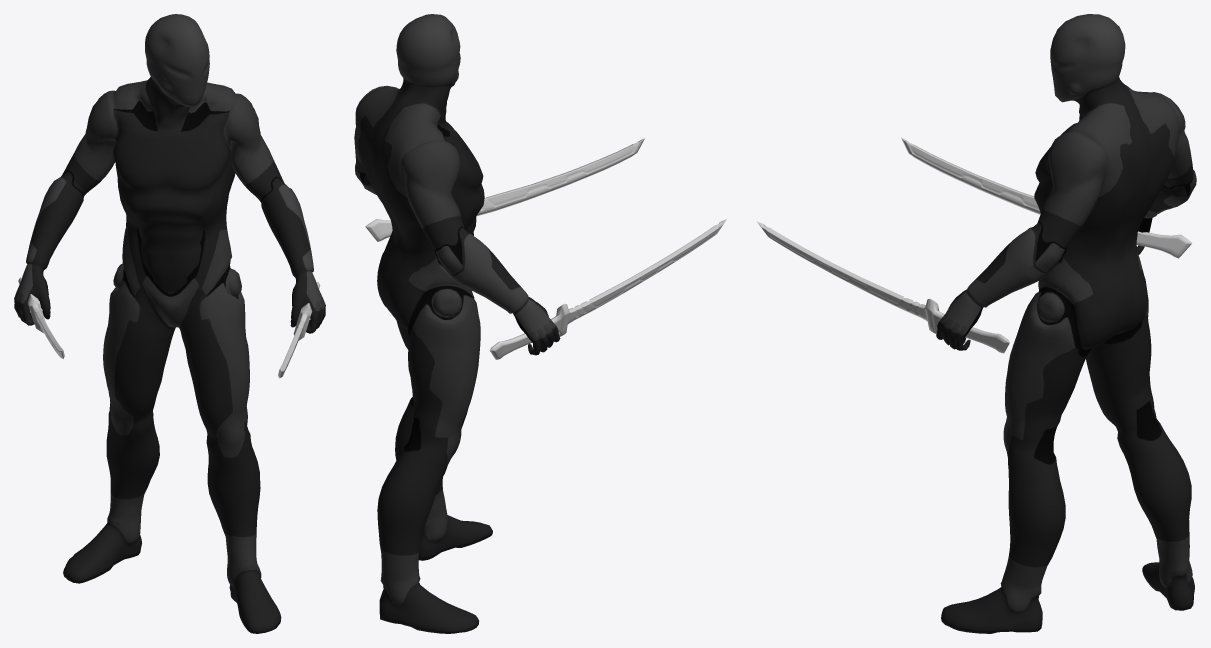
3 renders of one model, left to right at view 1: azimuth 30°, elevation 25°; view 2: azimuth 150°, elevation 25°; view 3: azimuth 270°, elevation 25°, orthographic. The views are drawn at different scales.
Parts seen in each view (by area): view 1: Cyborg_Ninja_Killer, Sword_l, Sword_l001; view 2: Cyborg_Ninja_Killer, Sword_l001, Sword_l; view 3: Cyborg_Ninja_Killer, Sword_l, Sword_l001.
Part boxes in pixels (x1,y1,x2,y2): Cyborg_Ninja_Killer: (14,14,325,633); Sword_l: (278,282,320,378); Sword_l001: (18,277,64,358); Cyborg_Ninja_Killer: (354,14,560,633); Sword_l001: (489,219,726,359); Sword_l: (365,138,644,241); Cyborg_Ninja_Killer: (936,14,1196,633); Sword_l: (756,221,1009,353); Sword_l001: (901,137,1191,258).
Size of the model in its own units: 104 by 182 by 123.
